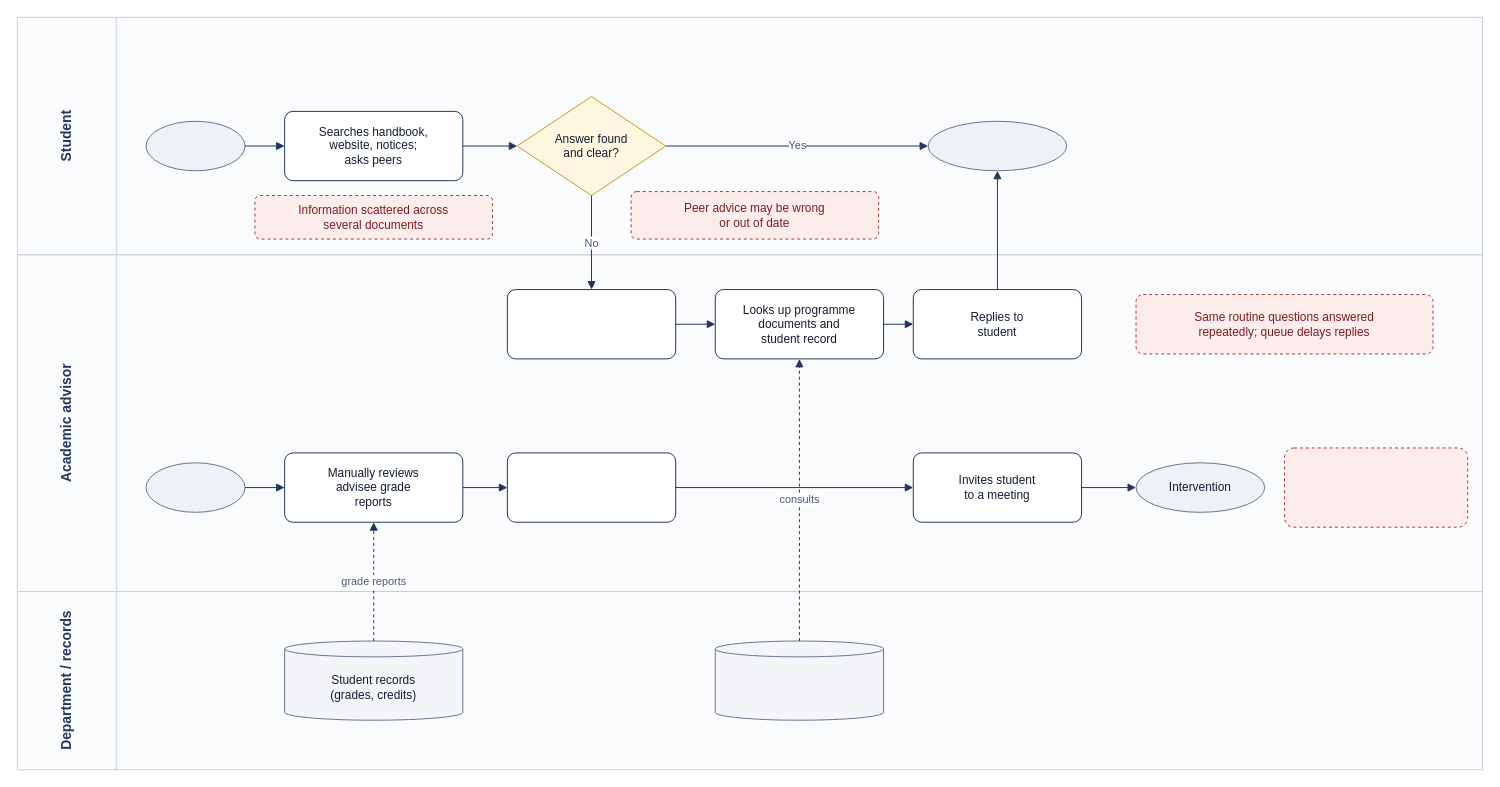
Image size: 1500x787. Some labels were removed from this diagram. Here are the shapes that lost their labels. From the top down, the centre of each, then its label:
the point at 195,145: Question arises
the point at 997,145: Acts on answer
the point at 591,324: Receives query (email / office hours)
the point at 195,487: End of semester
the point at 591,487: Spots struggling students
the point at 1376,487: At-risk students found late, after grades are posted; easy to miss someone
the point at 799,680: Programme documents (handbook, rules)
